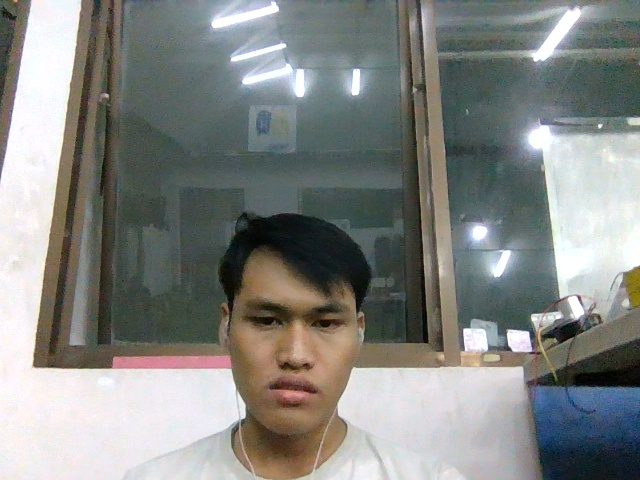mask_off: (230, 355, 356, 436)
